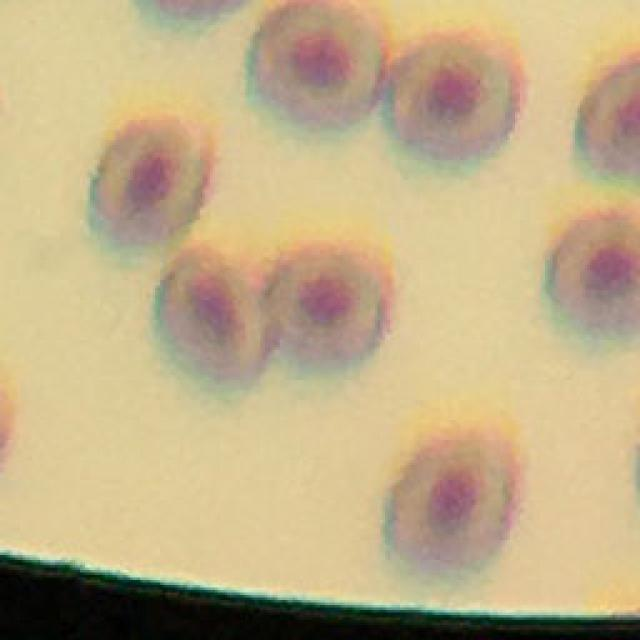RBC: (387, 429, 521, 581), (245, 0, 385, 132), (381, 37, 521, 162), (156, 241, 268, 397), (88, 113, 208, 251), (261, 247, 388, 371), (548, 211, 640, 342), (575, 59, 640, 181)
